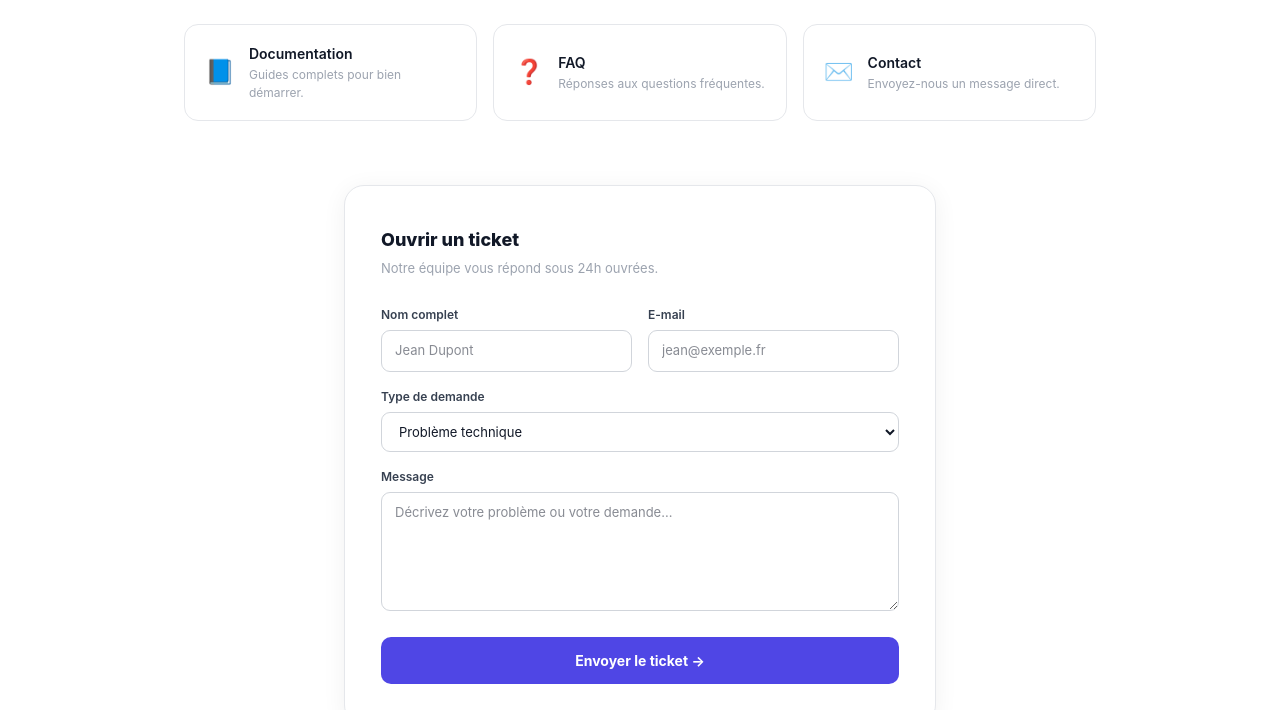
Scenario: Support › soumet le formulaire avec confirmation
(page scrolled)
Type "Test User" into the field with placeholder "Jean Dupont". click: [506, 351]
box: [381, 330, 632, 372]
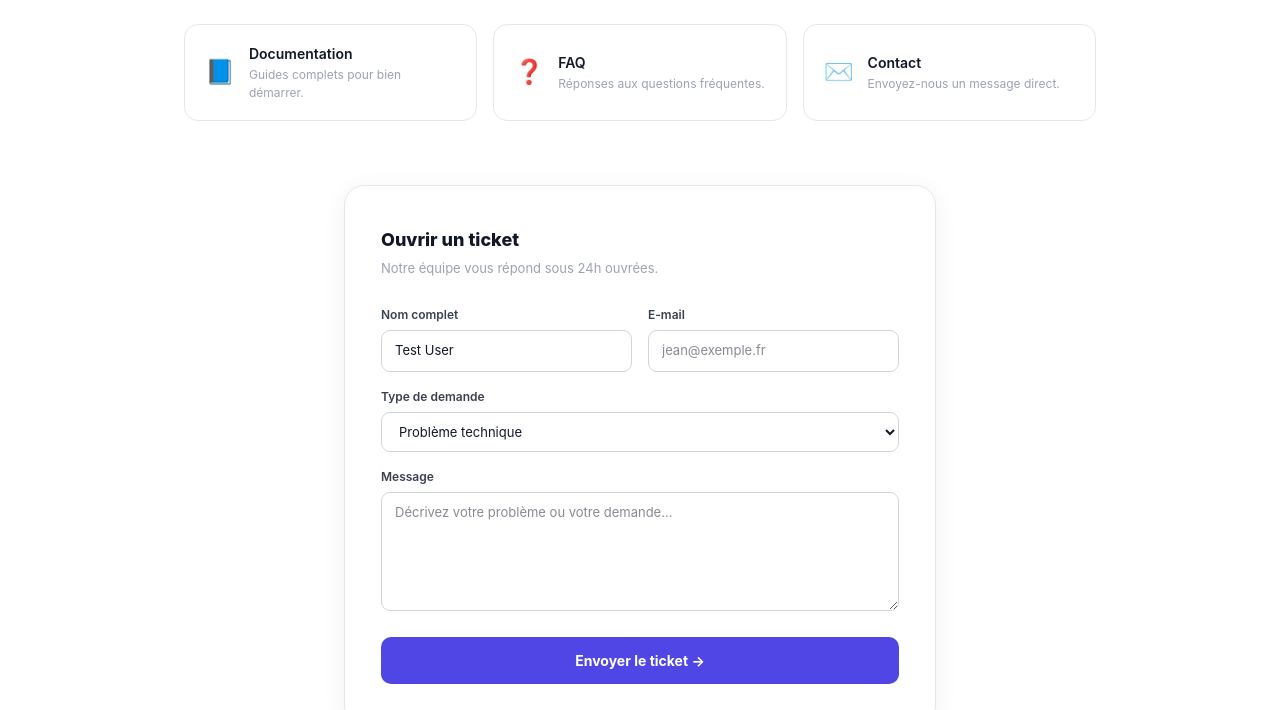
Type "test@test.fr" into the field with placeholder "jean@exemple.fr". click: [774, 351]
box: [648, 330, 899, 372]
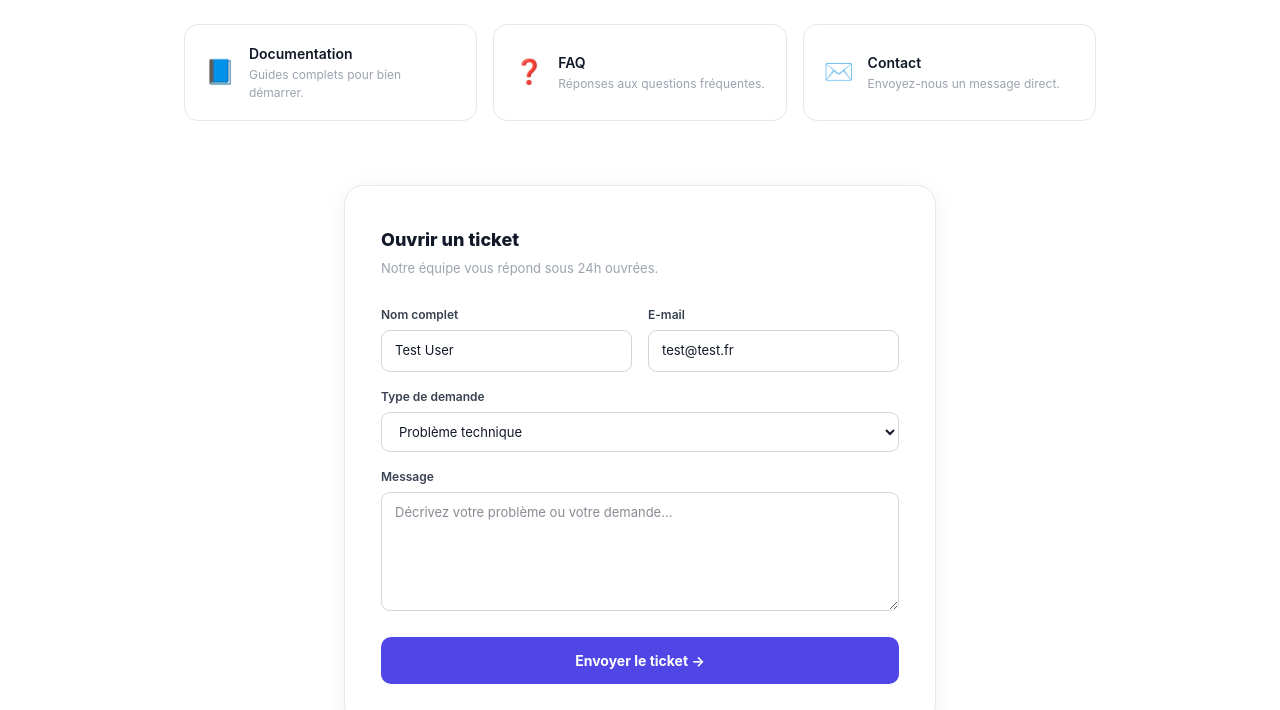
Type "Mon message de test" into the text box with placeholder "Décrivez votre problème ou votre demande...". click: [640, 551]
box: [381, 492, 899, 611]
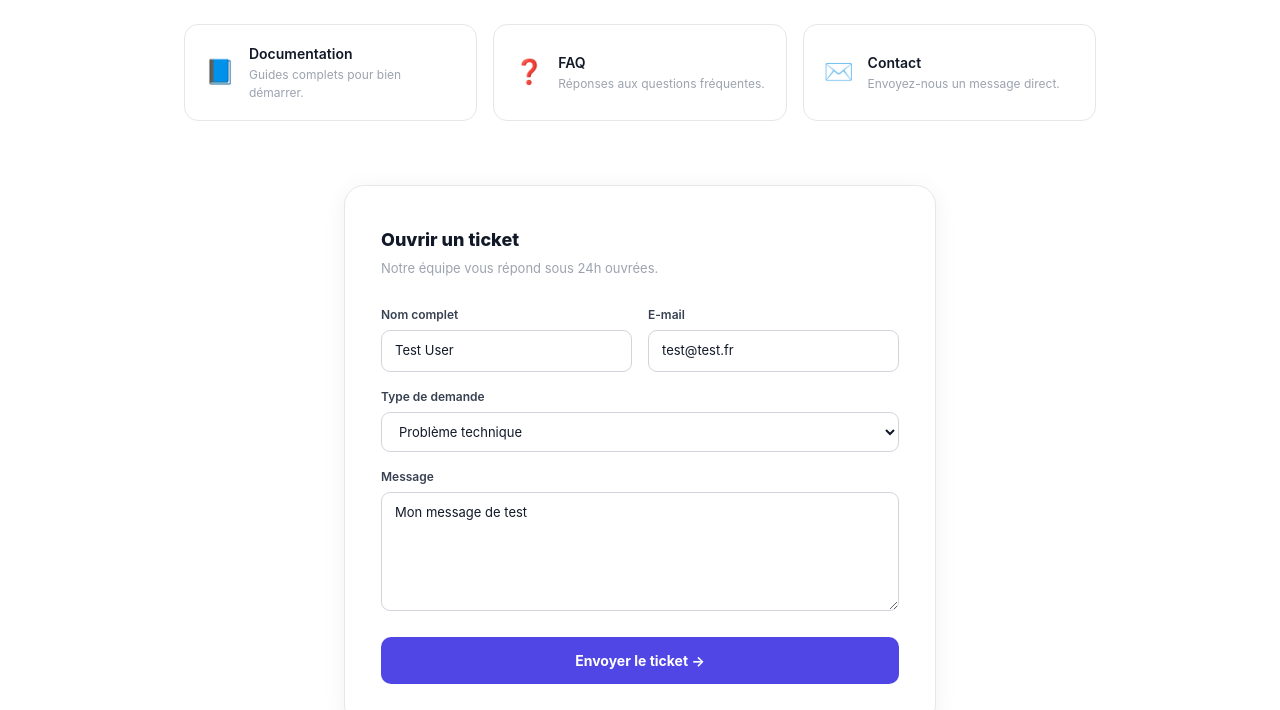
Click the button "Envoyer le ticket →". click: [640, 661]
box: [381, 637, 899, 684]
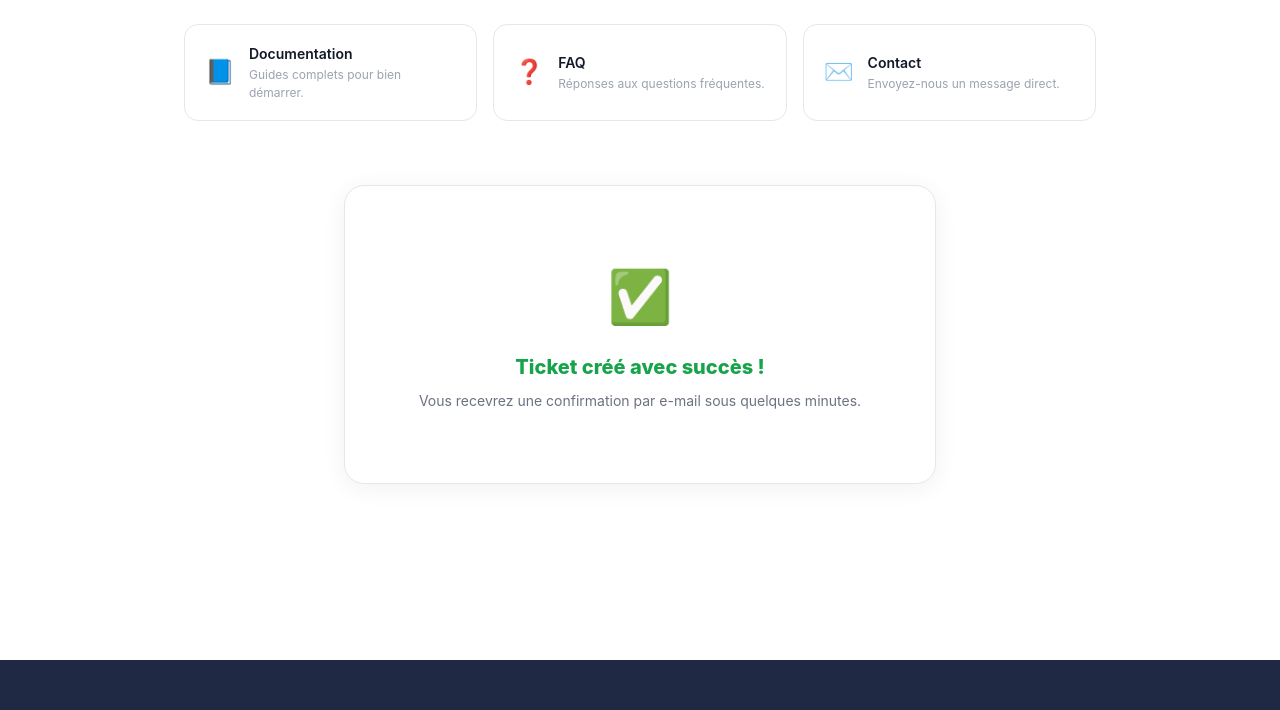
Expected: the heading "Ticket créé avec succès !" is shown, [515, 355, 765, 379]
